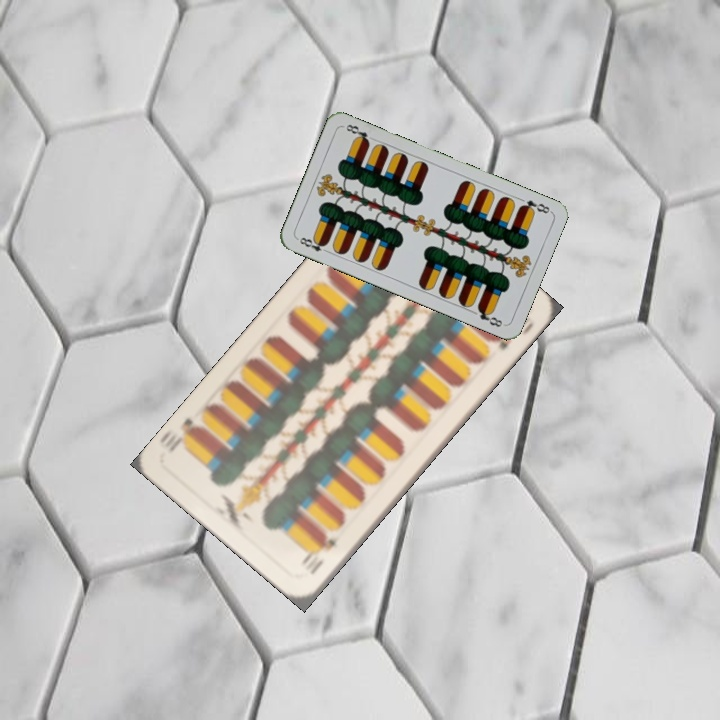E10: (299, 534, 339, 577)
E8: (294, 233, 332, 256), (516, 196, 552, 216)
